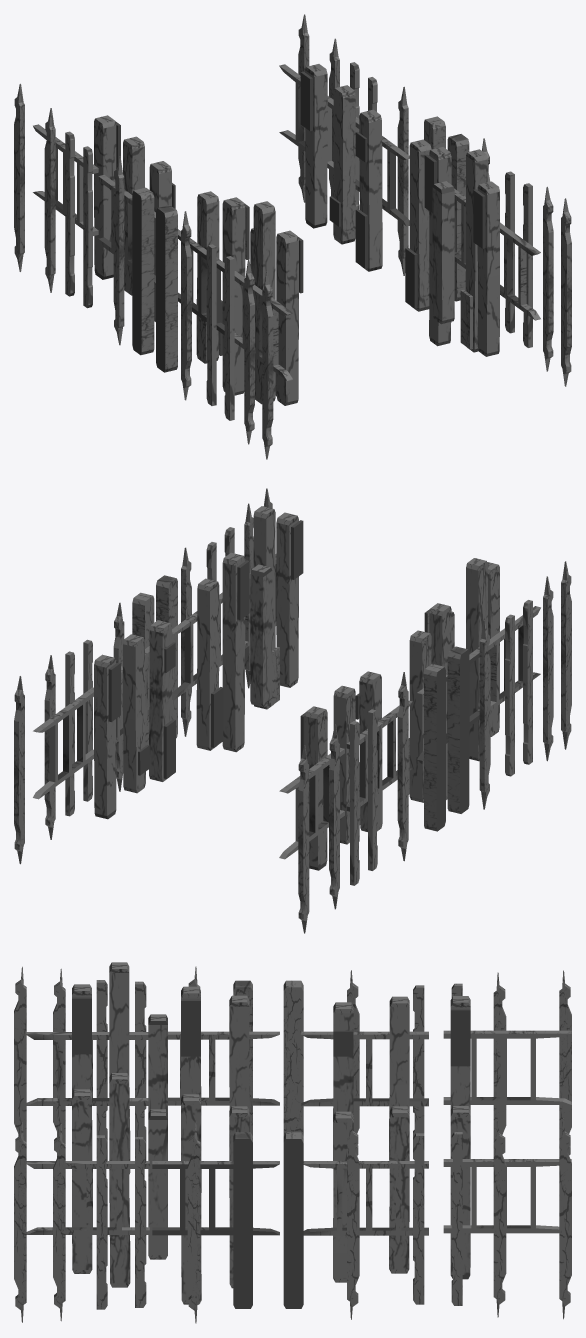
The model's file is stage.fbx.
3 renders of one model, top to bottom at view 1: azimuth 30°, elevation 25°; view 2: azimuth 150°, elevation 25°; view 3: azimuth 270°, elevation 25°, orthographic. The views are drawn at different scales.
Parts seen in each view (by area): view 1: pCube30; view 2: pCube30; view 3: pCube30.
Part boxes in pixels (<box>): pCube30: <box>14,14,571,459</box>; pCube30: <box>14,488,571,933</box>; pCube30: <box>14,962,571,1323</box>.
Size of the model in its own units: 2405 by 1607 by 3583.
Materials: 1 (1 with a texture image).
